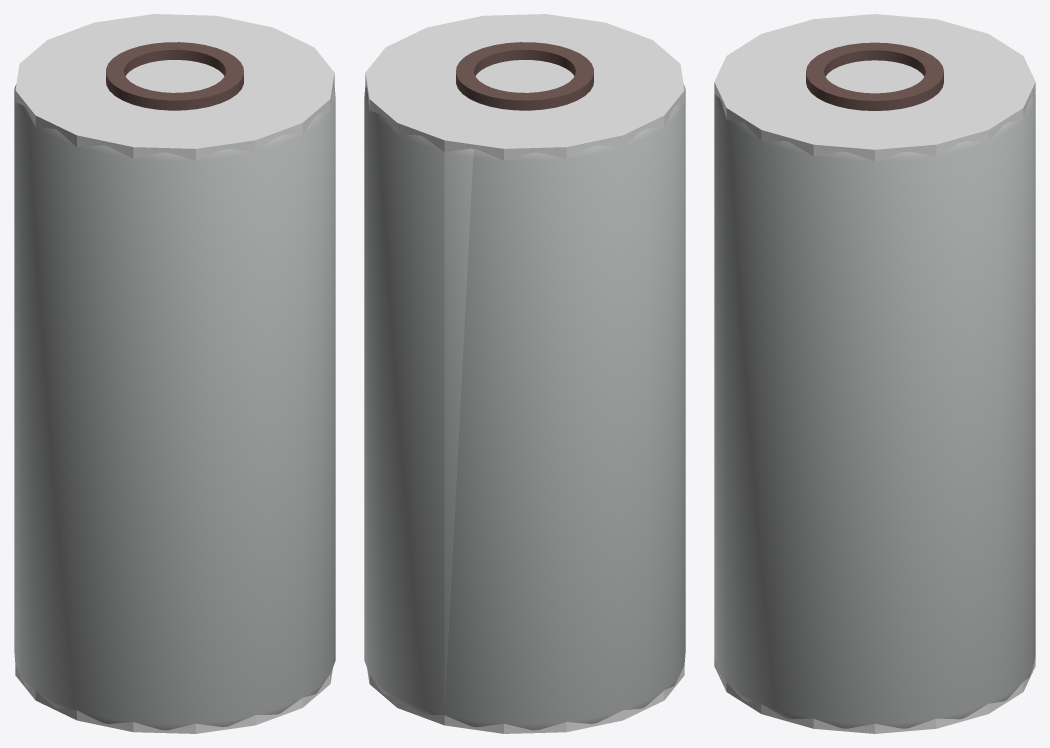
File: Kitchen Roll.fbx
3 renders of one model, left to right at view 1: azimuth 30°, elevation 25°; view 2: azimuth 150°, elevation 25°; view 3: azimuth 270°, elevation 25°, orthographic.
Parts seen in each view (by area): view 1: Kitchen Roll, Cylinder; view 2: Kitchen Roll, Cylinder; view 3: Kitchen Roll, Cylinder.
Part boxes in pixels (left/top/right/bottom): Kitchen Roll: left=14, top=42, right=335, bottom=730; Cylinder: left=15, top=14, right=334, bottom=733; Kitchen Roll: left=364, top=42, right=685, bottom=730; Cylinder: left=365, top=14, right=684, bottom=733; Kitchen Roll: left=714, top=42, right=1035, bottom=728; Cylinder: left=714, top=14, right=1035, bottom=733.
Bounding box in the file's own units: 200 × 200 × 410.
